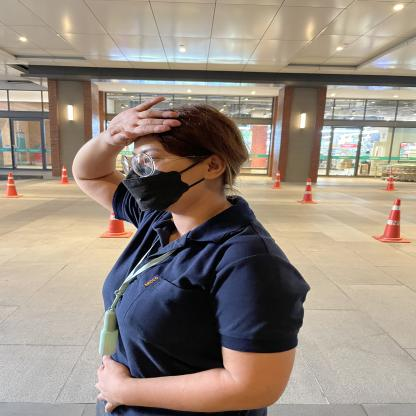Sick: (41, 76, 216, 170)
